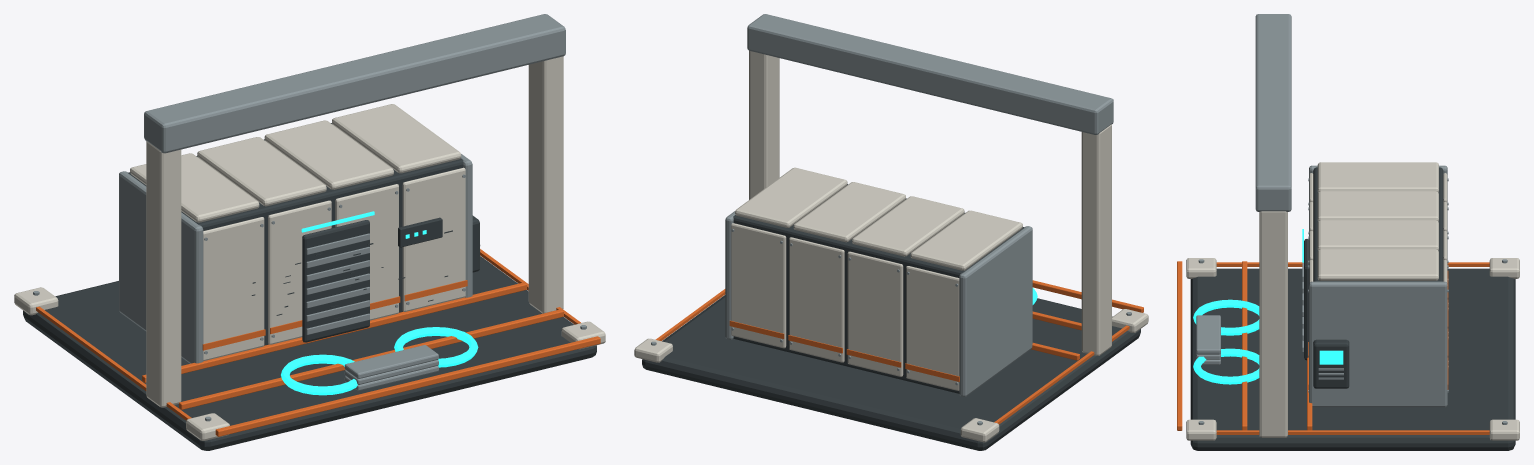
The model's file is SM_DroneMaintenanceBay_Body.002.fbx.
3 views of the same model, side by side, from view 1: azimuth 30°, elevation 25°; view 2: azimuth 150°, elevation 25°; view 3: azimuth 270°, elevation 25° (orthographic). The views are drawn at different scales.
Parts seen in each view (by area): view 1: SM_DroneMaintenanceBay_Body.002; view 2: SM_DroneMaintenanceBay_Body.002; view 3: SM_DroneMaintenanceBay_Body.002.
Part boxes in pixels (x1,y1,x2,y2): SM_DroneMaintenanceBay_Body.002: (14,14,605,450); SM_DroneMaintenanceBay_Body.002: (634,14,1148,450); SM_DroneMaintenanceBay_Body.002: (1177,14,1519,450).
Bounding box in the file's own units: 572 × 475 × 410.
